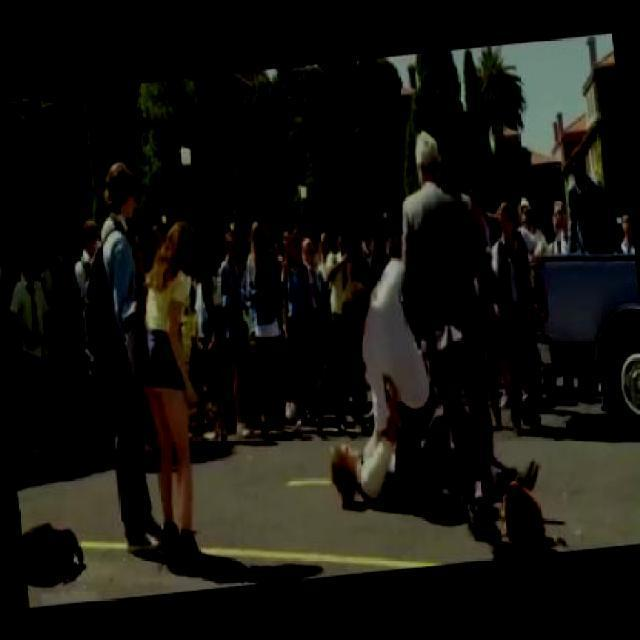fight: (301, 251, 444, 517)
non-fight: (120, 210, 234, 568), (80, 155, 180, 554)
